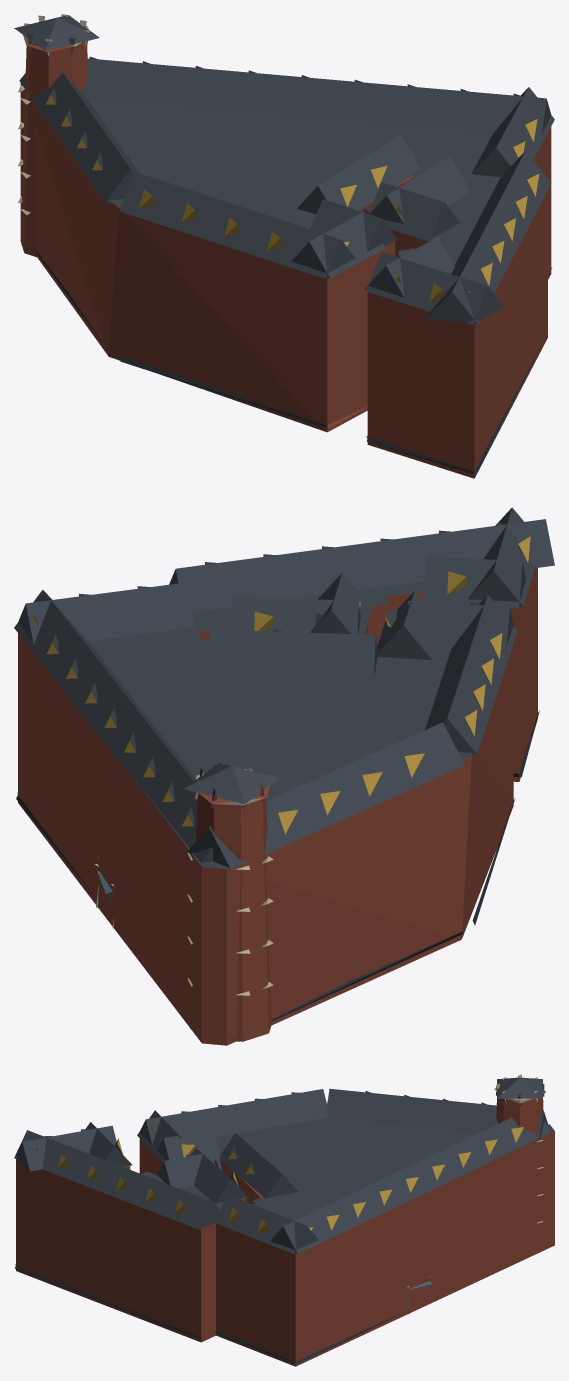
File: scheepvaarthuis.lod2.glb
3 renders of one model, top to bottom at view 1: azimuth 30°, elevation 25°; view 2: azimuth 150°, elevation 25°; view 3: azimuth 270°, elevation 25°, orthographic. The views are drawn at different scales.
Parts seen in each view (by area): view 1: lod2; view 2: lod2; view 3: lod2.
Boxes of the visible parts, left/top/right/bottom form: lod2: left=14, top=14, right=554, bottom=478; lod2: left=14, top=507, right=554, bottom=1045; lod2: left=14, top=1074, right=554, bottom=1366.
Bounding box in the file's own units: 65.84 × 33.91 × 99.55.
